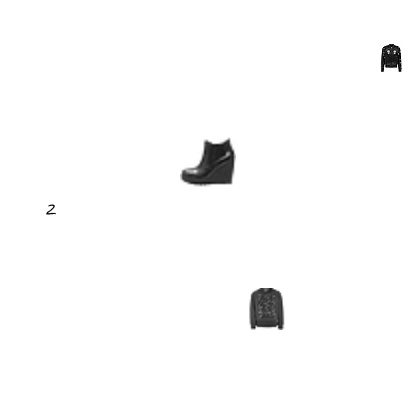0: (101, 66, 213, 178)
8: (311, 222, 367, 278)
Bag: (244, 320, 328, 404)
T-shirt/top: (44, 253, 156, 365), (353, 384, 367, 398)
